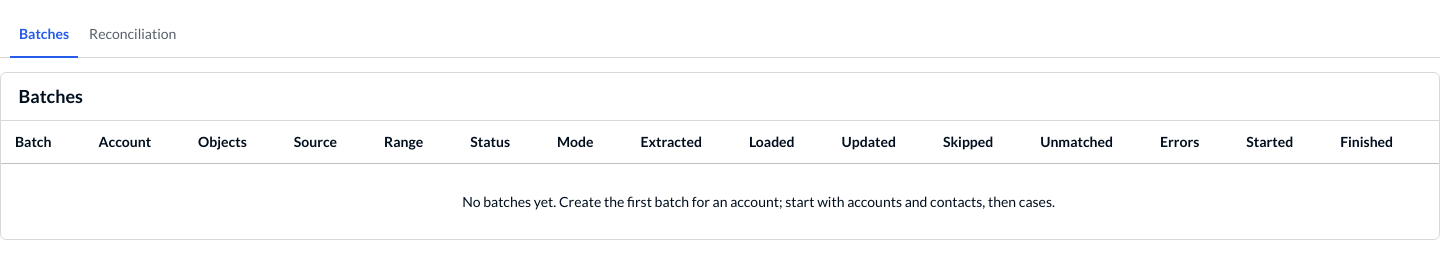
Scenario: AdminMigrationPage › asks for an account before showing reconciliation when none is filtered
The image size is (1440, 257).
Expected: the text "Create the first batch for an account" is shown, [462,193,1055,210]
Step 1. Click the tab "Reconciliation" → (133, 35), box [80,12,185,58]
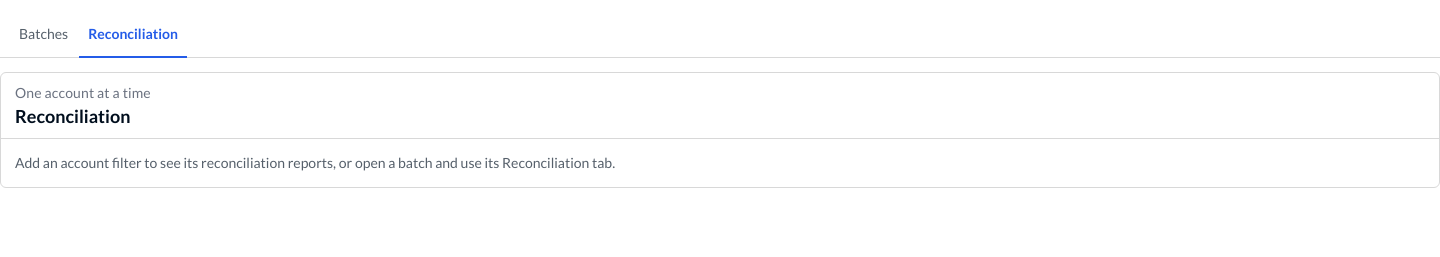
Expected: the text "Add an account filter to see its reconciliation reports" is shown, [15,154,615,171]
